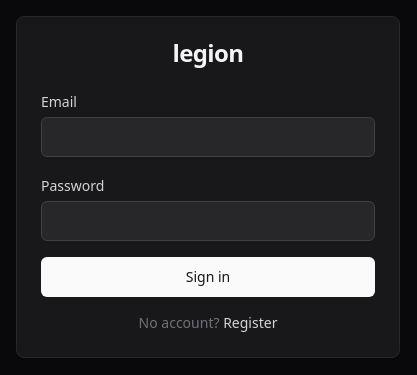
Scenario: Login – loading state › disables submit button while loading
In the field labelled "Email": (208,137) left=41, top=117, right=375, bottom=157, type "u@e.com"
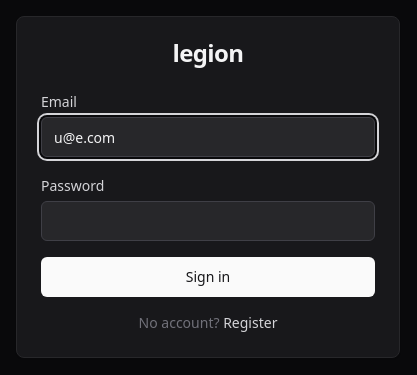
In the password field labelled "Password": (208,221) left=41, top=201, right=375, bottom=241, type "pass"
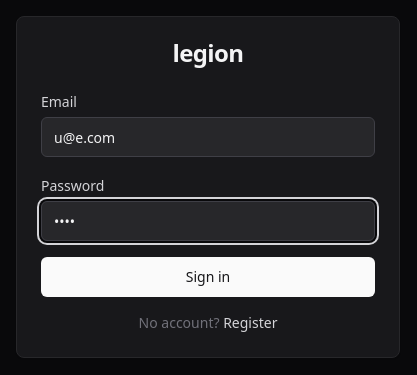
Submit the form "Email Password Sign in No account? Register", box left=41, top=89, right=375, bottom=333
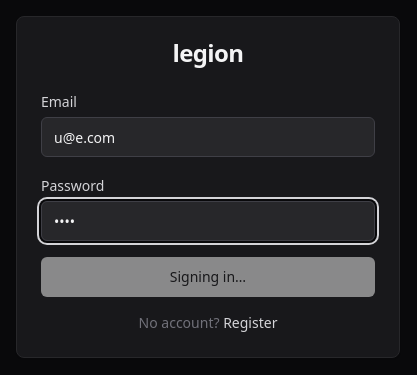
Expected: the button "Signing in…" is disabled, left=41, top=257, right=375, bottom=297
